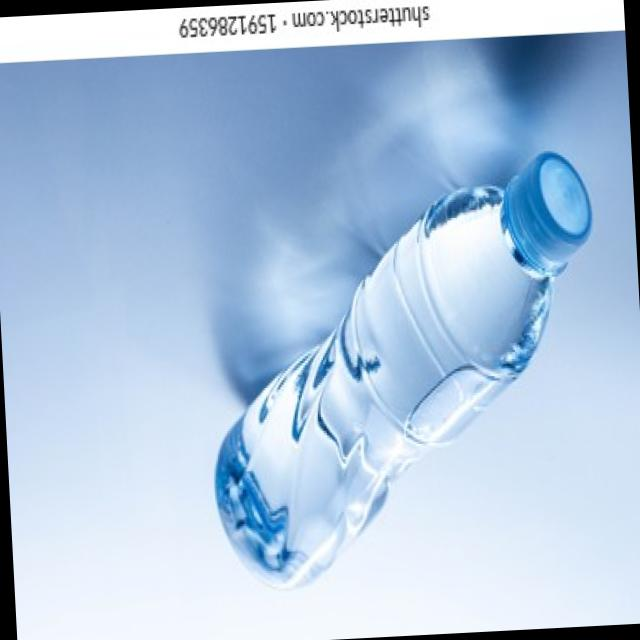plastic_bottle: (172, 111, 611, 619)
